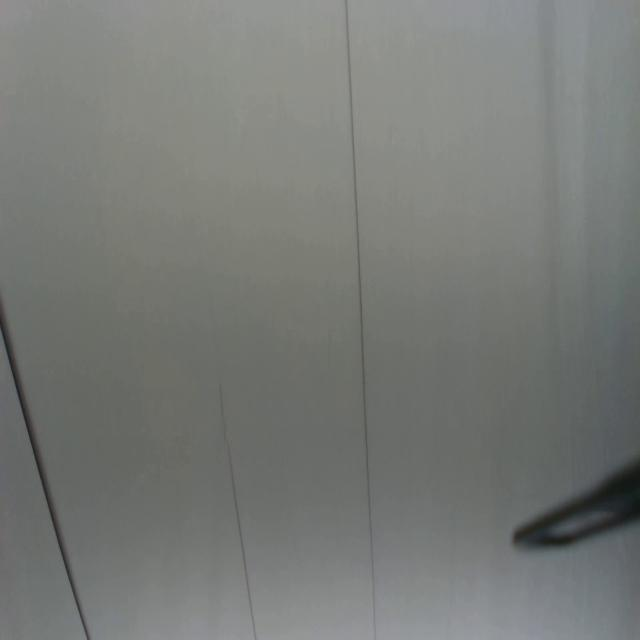crease: (0, 297, 94, 639), (340, 0, 380, 639), (214, 375, 258, 640)
